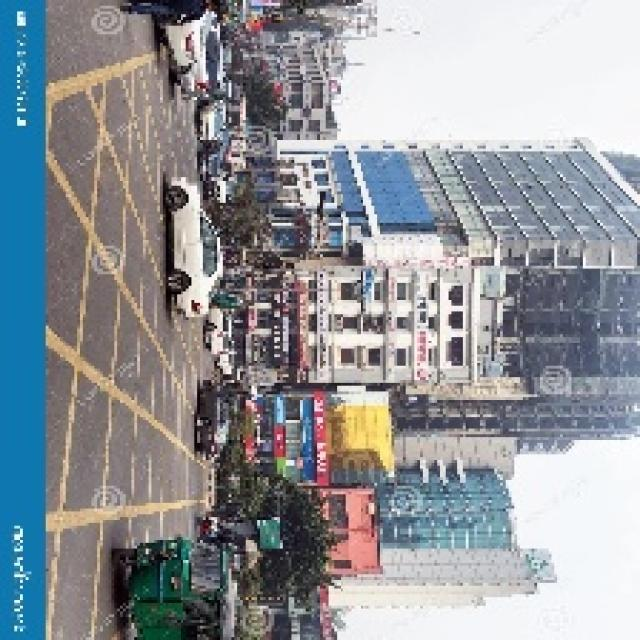car: (153, 168, 230, 329), (193, 376, 240, 471), (192, 101, 232, 146)
